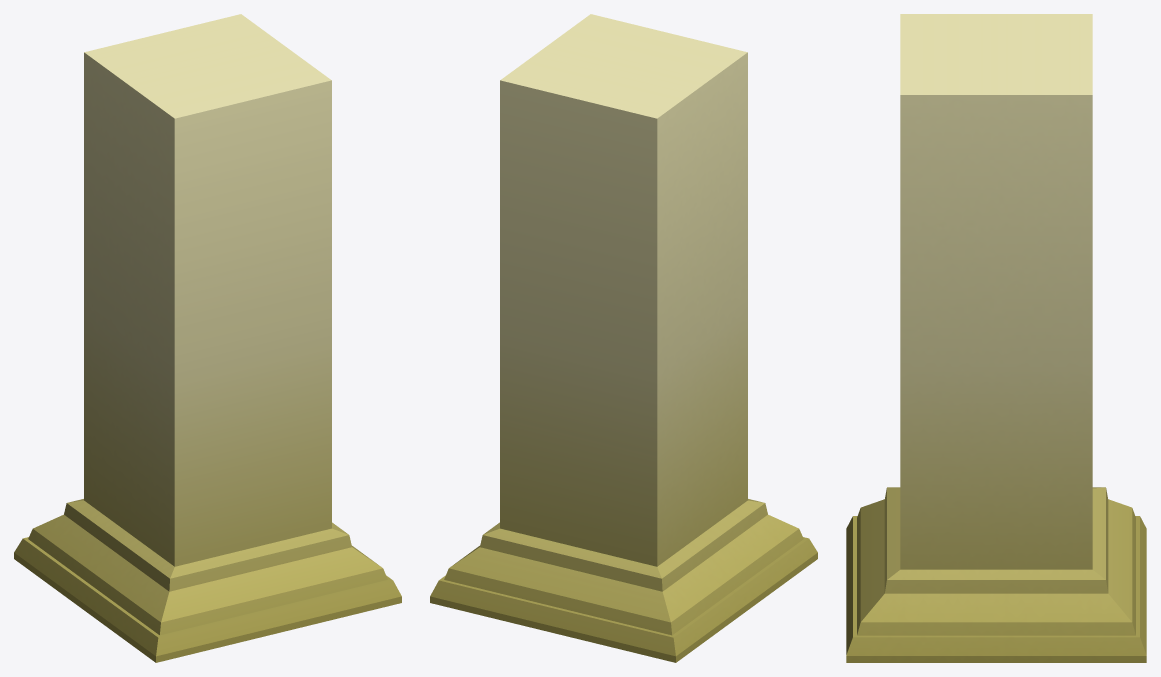
File: Mod_Pillar_03.fbx
3 views of the same model, side by side, from view 1: azimuth 30°, elevation 25°; view 2: azimuth 150°, elevation 25°; view 3: azimuth 270°, elevation 25° (orthographic). The views are drawn at different scales.
Visible parts, largest first — view 1: Mod_Pillar_03; view 2: Mod_Pillar_03; view 3: Mod_Pillar_03.
Boxes of the visible parts, x1=… form: Mod_Pillar_03: x1=14, y1=14, x2=401, y2=662; Mod_Pillar_03: x1=430, y1=14, x2=817, y2=662; Mod_Pillar_03: x1=846, y1=14, x2=1146, y2=662.
Size of the model in its own units: 100 by 200 by 100.
